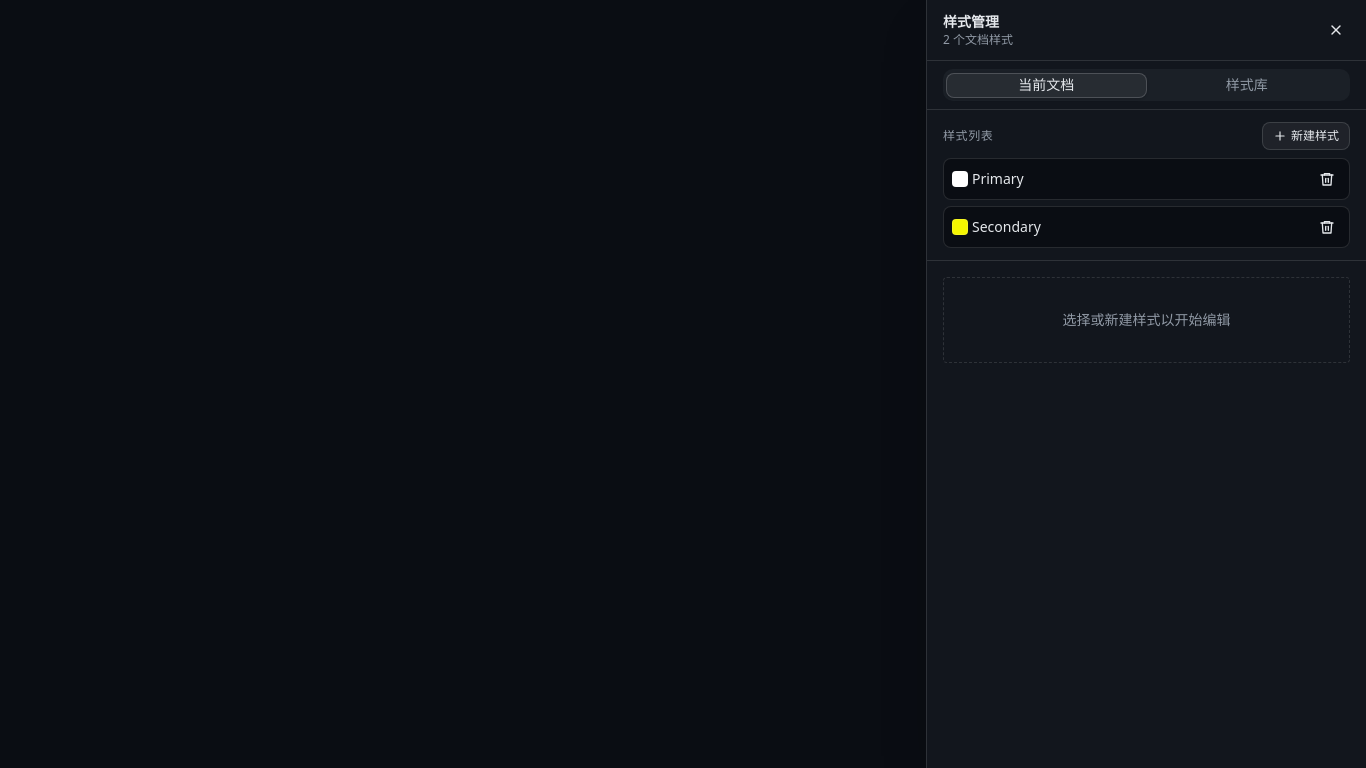
Test case: StyleManager library integration › cancels overwrite via Escape without writing
The width and height of the screenshot is (1366, 768).
Click the button "Primary": (998, 178) [943,158,1350,200]
(page scrolled)
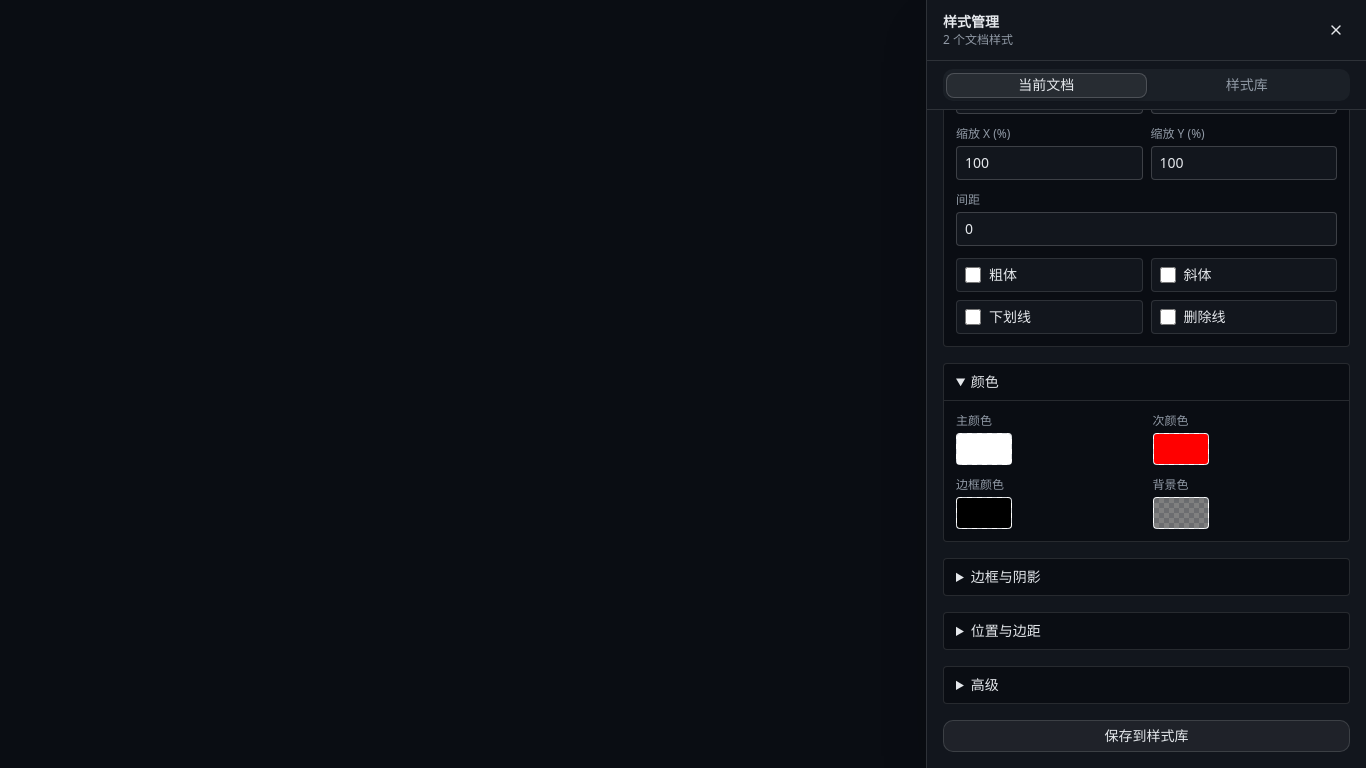
Click the button "保存到样式库": (1146, 736) [943,720,1350,752]
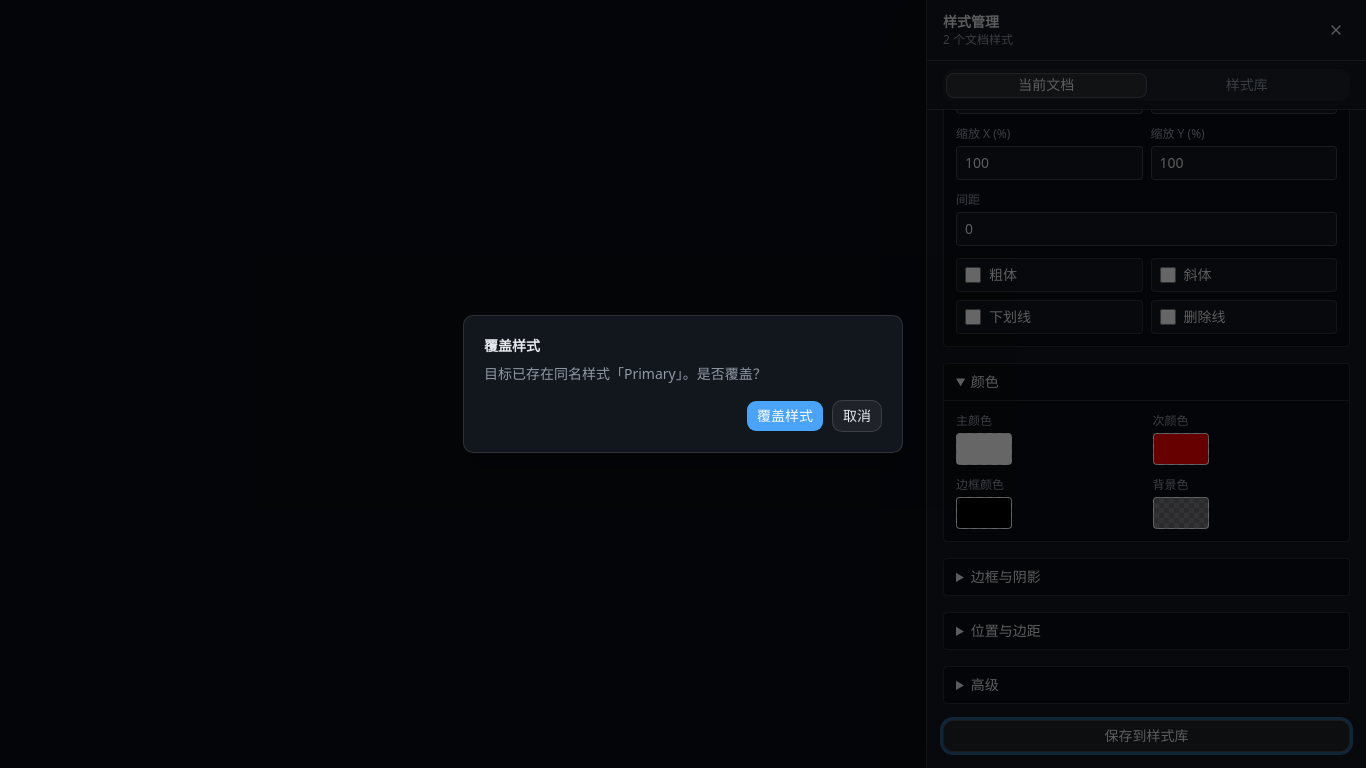
Expected: the button "覆盖样式" is shown, [746,400,824,432]
Press Escape
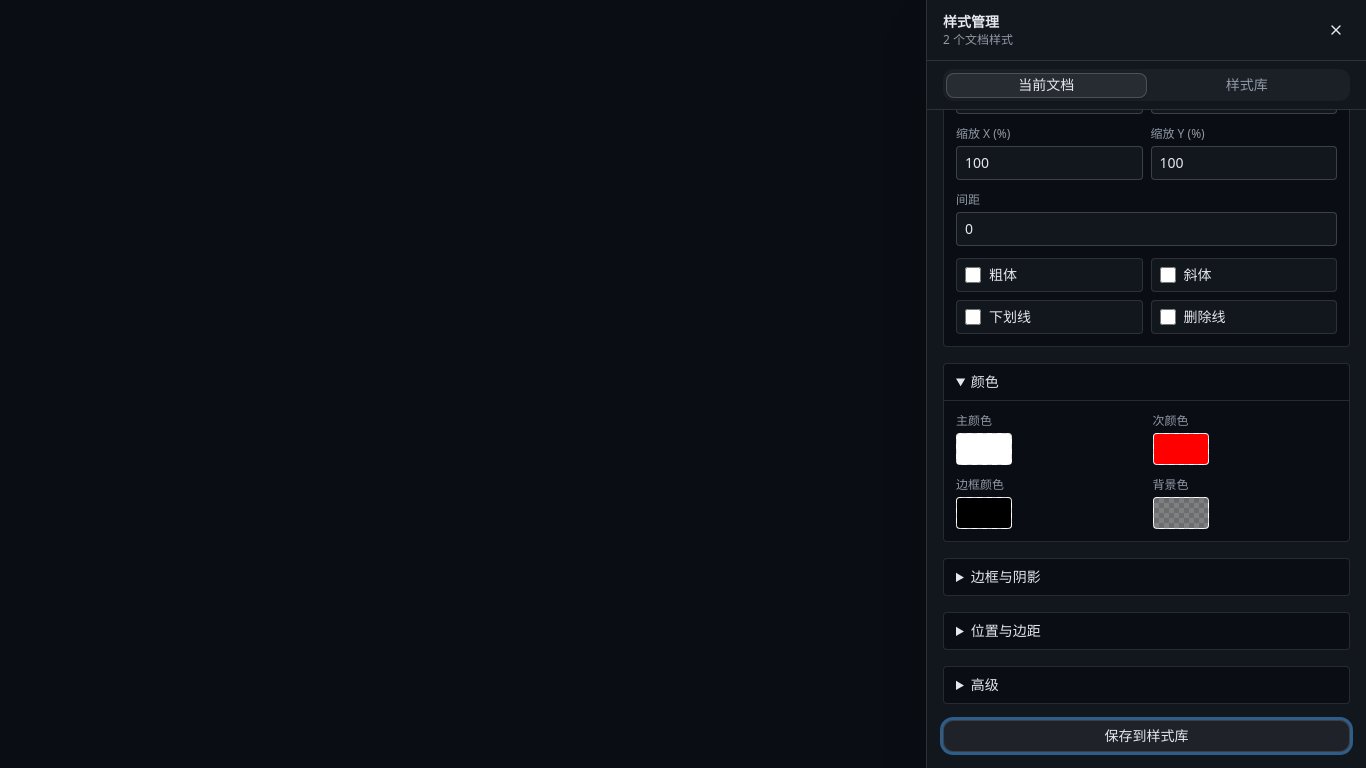
Expected: the heading "覆盖样式" is gone
